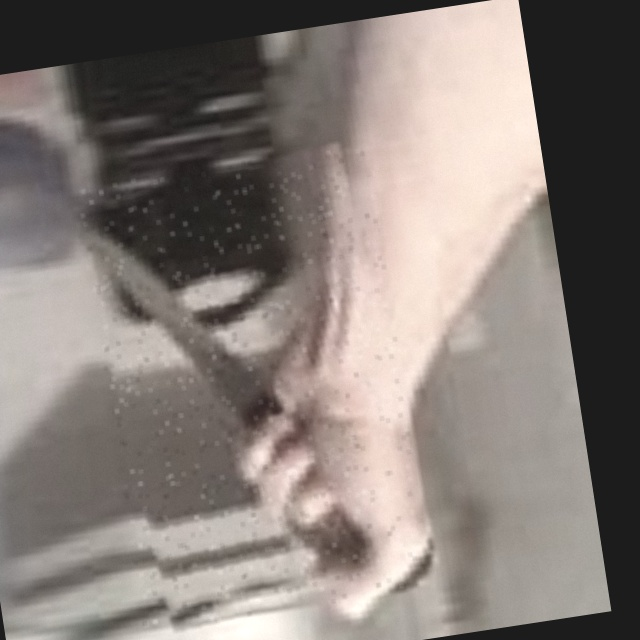Sharp-Object: (78, 143, 435, 631)
